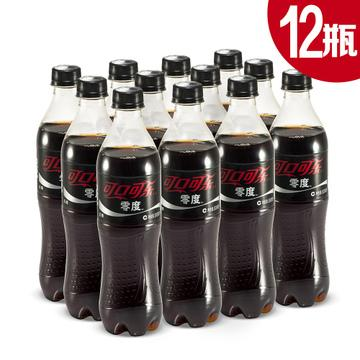coke_zero: (94, 87, 166, 338), (156, 81, 223, 333), (212, 76, 276, 324), (269, 83, 336, 311), (57, 75, 116, 326), (35, 62, 87, 306)
